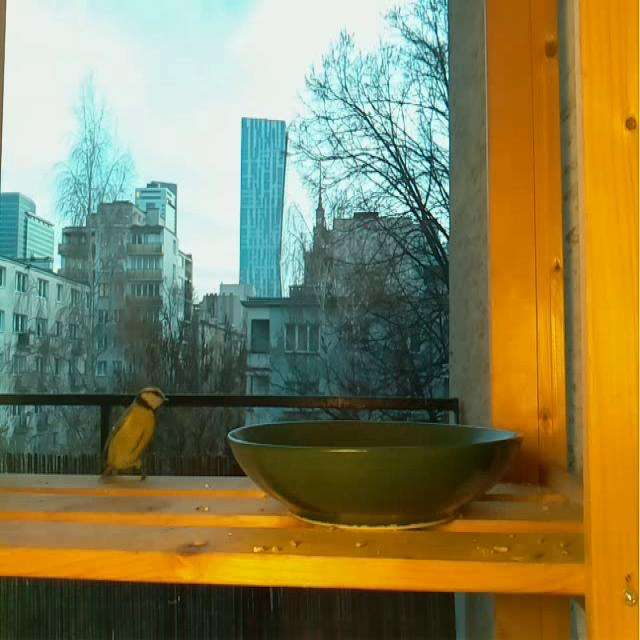Modraszka: (100, 383, 171, 480)
